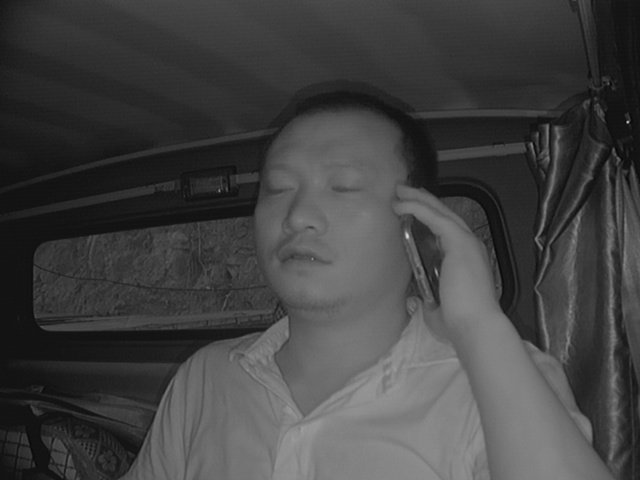hand: (387, 180, 491, 323)
